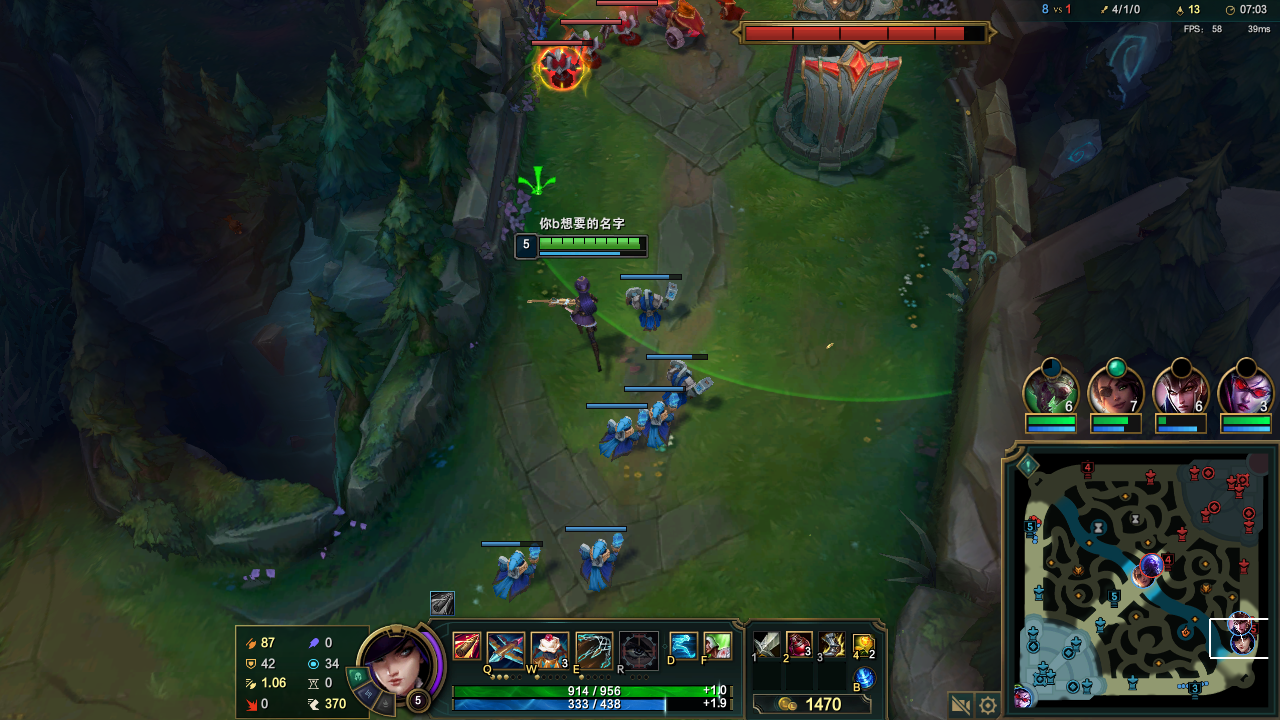DFFYT: (747, 12, 910, 171)
DFXB: (661, 9, 702, 52), (613, 10, 637, 45), (551, 55, 573, 88), (577, 33, 599, 65)
WFXB: (575, 542, 616, 584), (635, 290, 671, 332), (599, 416, 635, 456), (666, 361, 701, 400), (494, 555, 529, 590), (640, 407, 672, 445)
